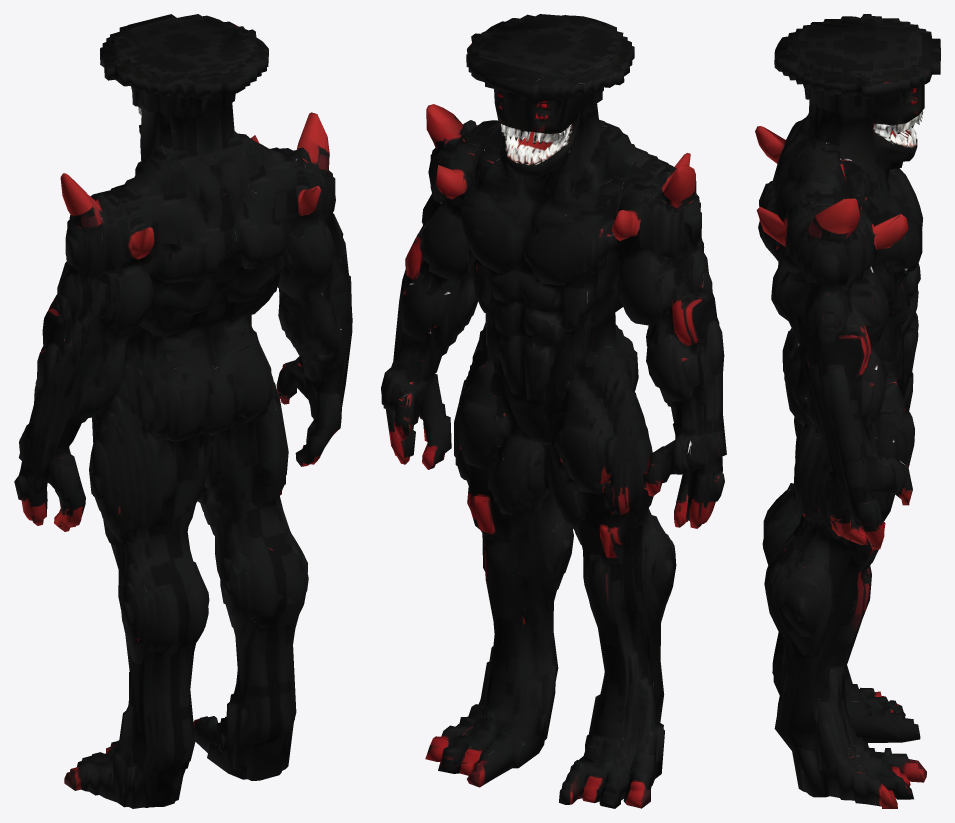
File: kaiju_no9_isao.obj
3 renders of one model, left to right at view 1: azimuth 30°, elevation 25°; view 2: azimuth 150°, elevation 25°; view 3: azimuth 270°, elevation 25°, orthographic.
Visible parts, largest first — view 1: kaiju_no9_isao; view 2: kaiju_no9_isao; view 3: kaiju_no9_isao.
Boxes of the visible parts, <box> form: kaiju_no9_isao: <box>14,14,352,808</box>; kaiju_no9_isao: <box>381,14,726,808</box>; kaiju_no9_isao: <box>755,14,940,808</box>.
Size of the model in its own units: 0.9422 by 2 by 0.4713.
